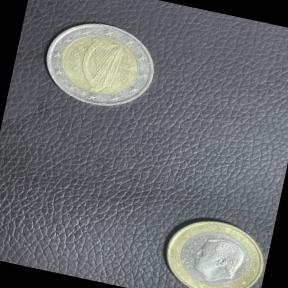1 Euro-B: (151, 206, 273, 288)
2 Euro-B: (32, 7, 166, 120)
